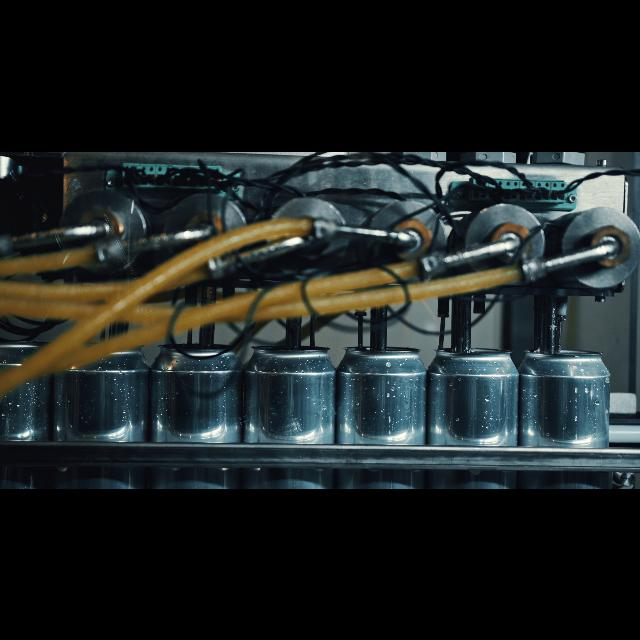empty: (518, 342, 612, 488), (334, 344, 426, 488), (430, 339, 518, 488), (156, 339, 244, 488), (248, 346, 338, 488), (67, 336, 151, 488), (0, 338, 66, 488)
